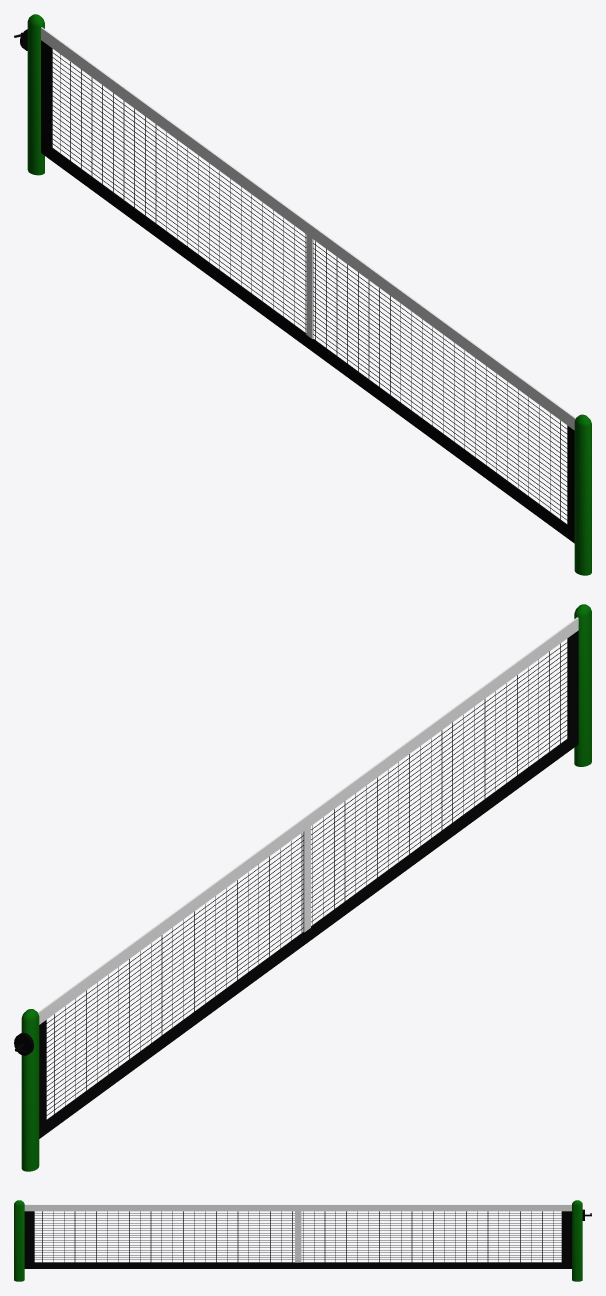
File: net.glb
3 renders of one model, top to bottom at view 1: azimuth 30°, elevation 25°; view 2: azimuth 150°, elevation 25°; view 3: azimuth 270°, elevation 25°, orthographic. The views are drawn at different scales.
Visible parts, largest first — view 1: Net; view 2: Net; view 3: Net.
Boxes of the visible parts, box(x1,y1,x2,y2) form: Net: box(14, 14, 591, 575); Net: box(14, 604, 591, 1171); Net: box(14, 1200, 591, 1281).
Bounding box in the file's own units: 4.53 × 38.15 × 250.
